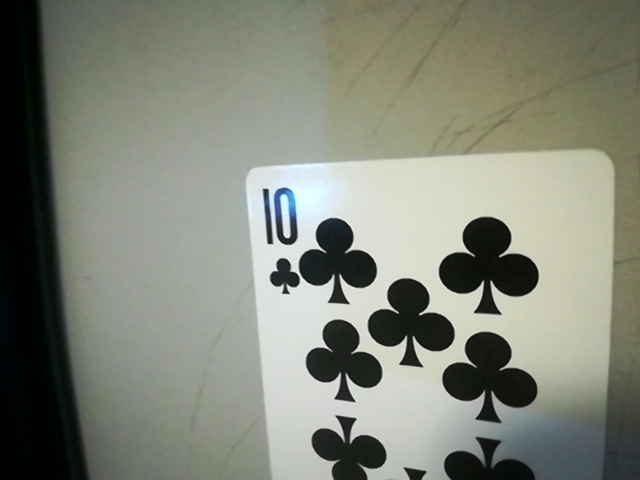mh 10: (247, 172, 308, 297)
